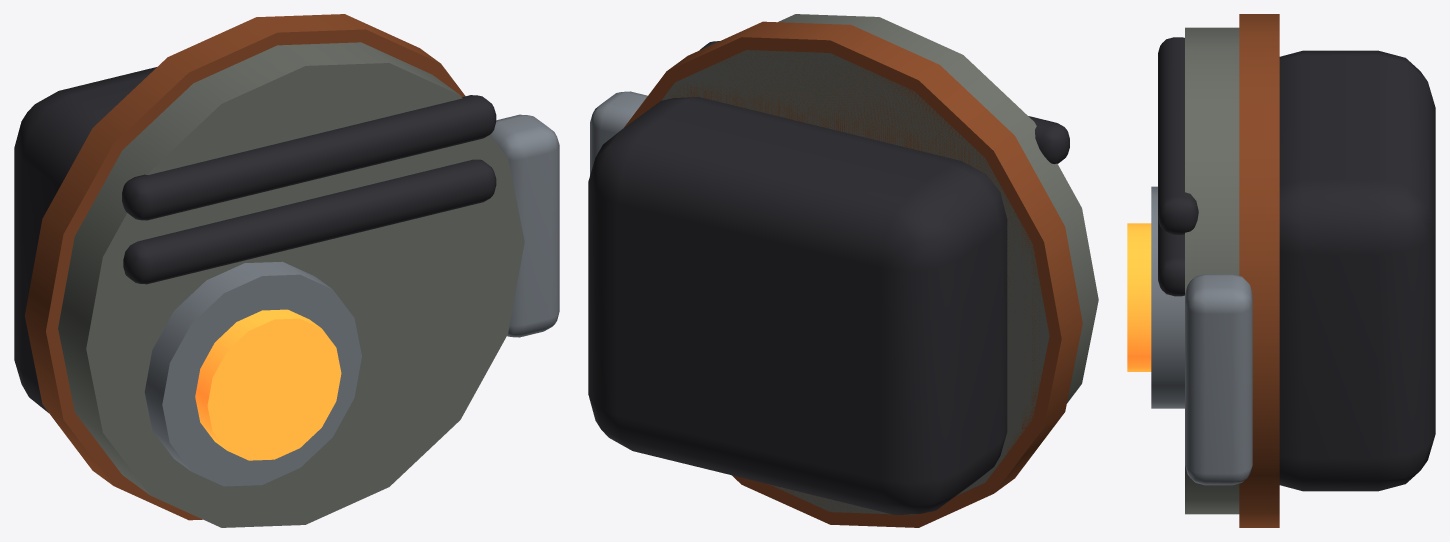
File: co_ember.glb
3 views of the same model, side by side, from view 1: azimuth 30°, elevation 25°; view 2: azimuth 150°, elevation 25°; view 3: azimuth 270°, elevation 25° (orthographic). The views are drawn at different scales.
Visible parts, largest first — view 1: co_ember; view 2: co_ember; view 3: co_ember.
Part boxes in pixels (<box>): co_ember: <box>14,14,559,527</box>; co_ember: <box>588,14,1098,527</box>; co_ember: <box>1127,14,1435,527</box>.
Size of the model in its own units: 0.1741 by 0.1634 by 0.0978.
